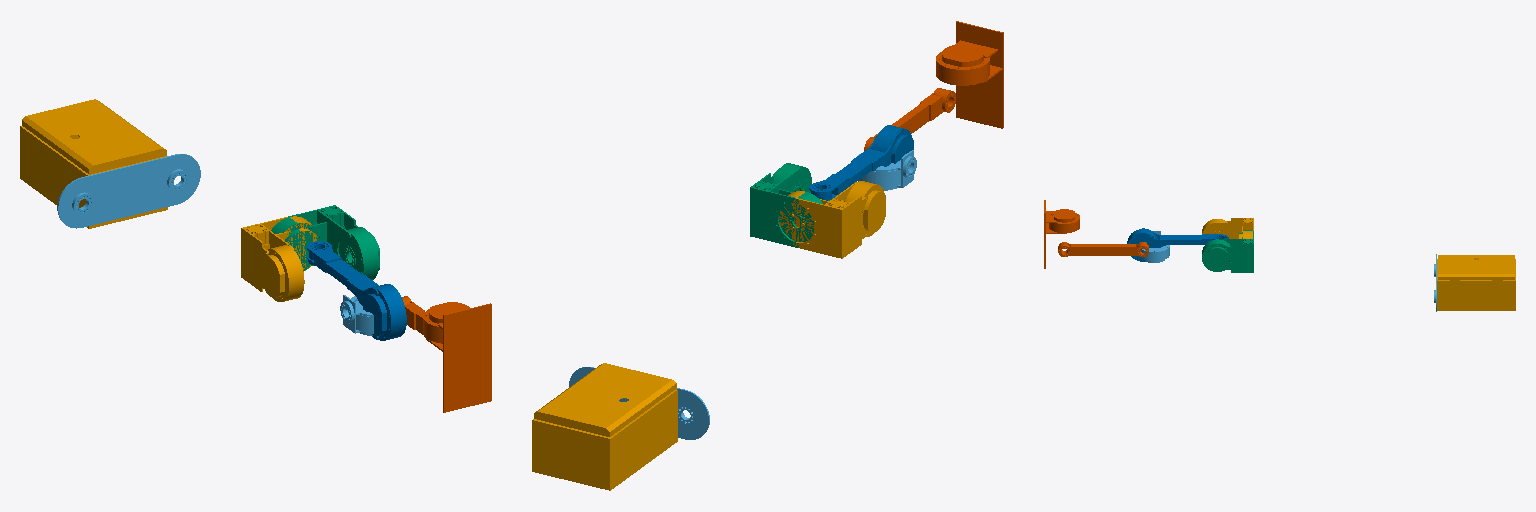
The robot description file, URDF, robot "plymouth_humanoid_skeleton":
<?xml version='1.0' encoding='utf-8'?>
<robot name="plymouth_humanoid_skeleton">


    <!-- ////////////////LINKS URDF///////////////////
        /////////////////////////////////////////////  -->


    <link name="robot_torso_link">
        <inertial>
            <origin xyz="0.040610506256969305 -0.04428824001105586 0.15232735840638484" rpy="0 0 0" />
            <mass value="3.4766230099551185" />
            <inertia    ixx="0.04556755879204122" iyy="0.05012873896013481" izz="0.029046998553490383" 
                        ixy="0.0001363433350708794" iyz="-0.00014319360185266472" ixz="-2.17772042035054e-05" />
        </inertial>
        <visual name="robot_torso_link_visual">
            <origin     xyz="0.03999999999999842 -0.2065000000000018 -0.8247999999999985" 
                        rpy="0 0 -1.5707963267948957" />
            <geometry>
                <mesh filename="meshes/robot_torso_link.stl" scale="1.0 1.0 1.0" />
            </geometry>
        </visual>
        <collision name="robot_torso_link_collision">
            <origin     xyz="0.03999999999999842 -0.2065000000000018 -0.8247999999999985" 
                        rpy="0 0 -1.5707963267948957" />
            <geometry>
                <mesh filename="meshes/robot_torso_link.stl" scale="1.0 1.0 1.0" />
            </geometry>
        </collision>
    </link>
    <link name="robot_pelvis_link">
        <inertial>
            <origin xyz="0.000000001907307843025983 0.8221283725272435 -0.16050000000009512" rpy="0 0 0" />
            <mass value="0.4703666239440356" />
            <inertia    ixx="0.0004950338258166186" iyy="0.0051455689188816735" izz="0.00465557720347649" 
                        ixy="-1.2440762051764413e-16" iyz="-4.9948841394502e-17" ixz="-2.4664787627748077e-16" />
        </inertial>
        <visual name="robot_pelvis_link_visual">
            <origin xyz="0 0 0" rpy="0 0 0" />
            <geometry>
                <mesh filename="meshes/robot_pelvis_link.stl" scale="1.0 1.0 1.0" />
            </geometry>
        </visual>
        <collision name="robot_pelvis_link_collision">
            <origin xyz="0 0 0" rpy="0 0 0" />
            <geometry>
                <mesh filename="meshes/robot_pelvis_link.stl" scale="1.0 1.0 1.0" />
            </geometry>
        </collision>
    </link>
    <link name="robot_l_hip_yaw_link">
        <inertial>
            <origin xyz="0.06170580963744355 0 0.06827606857409776" rpy="0 0 0" />
            <mass value="6.333603185323419" />
            <inertia    ixx="0.028436782140791816" iyy="0.03981948777445865" izz="0.025134874646244795" 
                        ixy="3.3504560609475864e-12" iyz="4.739341596998279e-12" ixz="-0.010596038307326227" />
        </inertial>
        <visual name="robot_l_hip_yaw_link_visual">
            <origin xyz="0.0010000019072628774 0 0.1212999999999947" rpy="0 0 -3.1415926535897922" />
            <geometry>
                <mesh filename="meshes/robot_l_hip_yaw_link.stl" scale="1.0 1.0 1.0" />
            </geometry>
        </visual>
        <collision name="robot_l_hip_yaw_link_collision">
            <origin xyz="0.0010000019072628774 0 0.1212999999999947" rpy="0 0 -3.1415926535897922" />
            <geometry>
                <mesh filename="meshes/robot_l_hip_yaw_link.stl" scale="1.0 1.0 1.0" />
            </geometry>
        </collision>
    </link>
    <link name="robot_l_hip_pitch_link">
        <inertial>
            <origin xyz="-0.02696184868350109 0.00005718654837338022 0.07266905837477193" rpy="0 0 0" />
            <mass value="2.4943200880759124" />
            <inertia    ixx="0.005318665627015662" iyy="0.0035221024403746387" izz="0.0031803389744609056" 
                        ixy="1.301162759759191e-07" iyz="-3.3025731688284423e-07" ixz="0.00011211843529274009" />
        </inertial>
        <visual name="robot_l_hip_pitch_link_visual">
            <origin xyz="0.000799999999894574 0.2573000000000074 0.07500000166893321" rpy="1.5707963267949085 -1.570796326794896 0" />
            <geometry>
                <mesh filename="meshes/robot_l_hip_pitch_link.stl" scale="1.0 1.0 1.0" />
            </geometry>
        </visual>
        <collision name="robot_l_hip_pitch_link_collision">
            <origin xyz="0.000799999999894574 0.2573000000000074 0.07500000166893321" rpy="1.5707963267949085 -1.570796326794896 0" />
            <geometry>
                <mesh filename="meshes/robot_l_hip_pitch_link.stl" scale="1.0 1.0 1.0" />
            </geometry>
        </collision>
    </link>
    <link name="robot_l_thigh_link">
        <inertial>
            <origin xyz="-0.013245029323109475 -0.004137655727869163 -0.2579314528909593" rpy="0 0 0" />
            <mass value="3.0917752218546957" />
            <inertia ixx="0.02883218865798365" iyy="0.02680266525524863" izz="0.003607875021008361" ixy="0.00010068883616660142" iyz="0.0021454171666648405" ixz="-0.0010188574668207385" />
        </inertial>
        <visual name="robot_l_thigh_link_visual">
            <origin xyz="-0.006500003619415118 0.000500003046754074 0.000000004497130134950567" rpy="3.141592653589783 0 3.1415926535897922" />
            <geometry>
                <mesh filename="meshes/robot_l_thigh_link.stl" scale="1.0 1.0 1.0" />
            </geometry>
        </visual>
        <collision name="robot_l_thigh_link_collision">
            <origin xyz="-0.006500003619415118 0.000500003046754074 0.000000004497130134950567" rpy="3.141592653589783 0 3.1415926535897922" />
            <geometry>
                <mesh filename="meshes/robot_l_thigh_link.stl" scale="1.0 1.0 1.0" />
            </geometry>
        </collision>
    </link>
    <link name="robot_l_shank_link">
        <inertial>
            <origin xyz="-0.0000000030467861478200577 0.14999999550286972 0.02088709684404469" rpy="0 0 0" />
            <mass value="0.8515894596853654" />
            <inertia ixx="0.008817835807395924" iyy="0.00018545866885020384" izz="0.008885909396953537" ixy="-1.7694179454963418e-16" iyz="-5.108341843844014e-17" ixz="-7.241192720668563e-17" />
        </inertial>
        <visual name="robot_l_shank_link_visual">
            <origin xyz="-0.0000000030467515088616894 -0.3000000044971365 -0.021500003857830272" rpy="-1.5707963267949183 -1.5707963267948943 0" />
            <geometry>
                <mesh filename="meshes/robot_l_shank_link.stl" scale="1.0 1.0 1.0" />
            </geometry>
        </visual>
        <collision name="robot_l_shank_link_collision">
            <origin xyz="-0.0000000030467515088616894 -0.3000000044971365 -0.021500003857830272" rpy="-1.5707963267949183 -1.5707963267948943 0" />
            <geometry>
                <mesh filename="meshes/robot_l_shank_link.stl" scale="1.0 1.0 1.0" />
            </geometry>
        </collision>
    </link>
    <link name="robot_l_ankle_link">
        <inertial>
            <origin xyz="0.0025101642045814642 -0.0000029435578429026778 0.027693209476934388" rpy="0 0 0" />
            <mass value="2.497542686119488" />
            <inertia ixx="0.003170044378268018" iyy="0.0035459766740820603" izz="0.005361641268614978" ixy="3.5193338254746465e-07" iyz="-5.0583123384351225e-08" ixz="8.715197442183548e-05" />
        </inertial>
        <visual name="robot_l_ankle_link_visual">
            <origin xyz="0.000011559999991028747 0.599940920000003 0.018515648092735582" rpy="1.5707963267949097 -1.5707963267948954 0" />
            <geometry>
                <mesh filename="meshes/robot_l_ankle_link.stl" scale="1.0 1.0 1.0" />
            </geometry>
        </visual>
        <collision name="robot_l_ankle_link_collision">
            <origin xyz="0.000011559999991028747 0.599940920000003 0.018515648092735582" rpy="1.5707963267949097 -1.5707963267948954 0" />
            <geometry>
                <mesh filename="meshes/robot_l_ankle_link.stl" scale="1.0 1.0 1.0" />
            </geometry>
        </collision>
    </link>
    <link name="robot_l_foot_link">
        <inertial>
            <origin xyz="0.0000000021152900764320747 0.021295071129086525 0.009743852524883821" rpy="0 0 0" />
            <mass value="2.78967156731517" />
            <inertia ixx="0.007113124123467467" iyy="0.007089530917847919" izz="0.005986516031780277" ixy="3.032130102553765e-11" iyz="0.001208249550533235" ixz="-3.797835657071147e-11" />
        </inertial>
        <visual name="robot_l_foot_link_visual">
            <origin xyz="-0.009499998092735584 -0.07400000000000896 -0.600000000000003" rpy="0 0 -3.1415926535897922" />
            <geometry>
                <mesh filename="meshes/robot_l_foot_link.stl" scale="1.0 1.0 1.0" />
            </geometry>
        </visual>
        <collision name="robot_l_foot_link_collision">
            <origin xyz="-0.009499998092735584 -0.07400000000000896 -0.600000000000003" rpy="0 0 -3.1415926535897922" />
            <geometry>
                <mesh filename="meshes/robot_l_foot_link.stl" scale="1.0 1.0 1.0" />
            </geometry>
        </collision>
    </link>
    <link name="robot_r_hip_yaw_link">
        <inertial>
            <origin xyz="-0.06170580582138252 0 -0.06827606857536807" rpy="0 0 0" />
            <mass value="6.33360318547509" />
            <inertia ixx="0.02843678214118306" iyy="0.03981948777555511" izz="0.025134874646876512" ixy="3.3527615383185486e-12" iyz="4.741342443921934e-12" ixz="-0.010596038306837618" />
        </inertial>
        <visual name="robot_r_hip_yaw_link_visual">
            <origin xyz="-0.0009999980926557051 0 -0.12129999999999527" rpy="0 0 0" />
            <geometry>
                <mesh filename="meshes/robot_r_hip_yaw_link.stl" scale="1.0 1.0 1.0" />
            </geometry>
        </visual>
        <collision name="robot_r_hip_yaw_link_collision">
            <origin xyz="-0.0009999980926557051 0 -0.12129999999999527" rpy="0 0 0" />
            <geometry>
                <mesh filename="meshes/robot_r_hip_yaw_link.stl" scale="1.0 1.0 1.0" />
            </geometry>
        </collision>
    </link>
    <link name="robot_r_hip_pitch_link">
        <inertial>
            <origin xyz="-0.026950752726990004 -0.0000004887744043458043 0.07268407470290571" rpy="0 0 0" />
            <mass value="2.4943200880759147" />
            <inertia ixx="0.005318838704479134" iyy="0.0035222338455168645" izz="0.003180296615424849" ixy="-2.273747279346594e-08" iyz="2.823485417691174e-09" ixz="0.00011208276943740214" />
        </inertial>
        <visual name="robot_r_hip_pitch_link_visual">
            <origin xyz="0.0007999999998950713 -0.25730000000000786 0.075000005483542" rpy="1.5707963267948843 -1.5707963267948957 0" />
            <geometry>
                <mesh filename="meshes/robot_r_hip_pitch_link.stl" scale="1.0 1.0 1.0" />
            </geometry>
        </visual>
        <collision name="robot_r_hip_pitch_link_collision">
            <origin xyz="0.0007999999998950713 -0.25730000000000786 0.075000005483542" rpy="1.5707963267948843 -1.5707963267948957 0" />
            <geometry>
                <mesh filename="meshes/robot_r_hip_pitch_link.stl" scale="1.0 1.0 1.0" />
            </geometry>
        </collision>
    </link>
    <link name="robot_r_thigh_link">
        <inertial>
            <origin xyz="0.013245027463409737 0.004137658774629856 0.2579314573880829" rpy="0 0 0" />
            <mass value="3.0917752218546957" />
            <inertia ixx="0.02883218865798376" iyy="0.026802665253455676" izz="0.003607875019214846" ixy="0.00010068883404953363" iyz="0.0021454171666639033" ixz="-0.0010188574476189692" />
        </inertial>
        <visual name="robot_r_thigh_link_visual">
            <origin xyz="0.006500001907344953 -0.0005000000000066862 0" rpy="3.1415926535897474 0 0" />
            <geometry>
                <mesh filename="meshes/robot_r_thigh_link.stl" scale="1.0 1.0 1.0" />
            </geometry>
        </visual>
        <collision name="robot_r_thigh_link_collision">
            <origin xyz="0.006500001907344953 -0.0005000000000066862 0" rpy="3.1415926535897474 0 0" />
            <geometry>
                <mesh filename="meshes/robot_r_thigh_link.stl" scale="1.0 1.0 1.0" />
            </geometry>
        </collision>
    </link>
    <link name="robot_r_shank_link">
        <inertial>
            <origin xyz="0 -0.14999999999999544 0.02088709874680781" rpy="0 0 0" />
            <mass value="0.8515894596853654" />
            <inertia ixx="0.008817835807396299" iyy="0.00018545866885018997" izz="0.008885909396952732" ixy="1.1796119636642298e-16" iyz="-8.32422847682077e-17" ixz="-8.92696737494169e-17" />
        </inertial>
        <visual name="robot_r_shank_link_visual">
            <origin xyz="0 0.30000000000001104 -0.021500001955065694" rpy="-1.570796326794883 -1.5707963267948897 0" />
            <geometry>
                <mesh filename="meshes/robot_r_shank_link.stl" scale="1.0 1.0 1.0" />
            </geometry>
        </visual>
        <collision name="robot_r_shank_link_collision">
            <origin xyz="0 0.30000000000001104 -0.021500001955065694" rpy="-1.570796326794883 -1.5707963267948897 0" />
            <geometry>
                <mesh filename="meshes/robot_r_shank_link.stl" scale="1.0 1.0 1.0" />
            </geometry>
        </collision>
    </link>
    <link name="robot_r_ankle_link">
        <inertial>
            <origin xyz="0.0025096858438951133 0.0000004881742454987403 0.02773418951986404" rpy="0 0 0" />
            <mass value="2.4975426861194876" />
            <inertia ixx="0.0031677074193712795" iyy="0.0035435011232669844" izz="0.005361501992920334" ixy="3.059899889024109e-09" iyz="-2.2390836785374235e-08" ixz="8.122457175510502e-05" />
        </inertial>
        <visual name="robot_r_ankle_link_visual">
            <origin xyz="0 -0.6000000000000062 0.01950000190734496" rpy="1.5707963267948835 -1.5707963267948952 0" />
            <geometry>
                <mesh filename="meshes/robot_r_ankle_link.stl" scale="1.0 1.0 1.0" />
            </geometry>
        </visual>
        <collision name="robot_r_ankle_link_collision">
            <origin xyz="0 -0.6000000000000062 0.01950000190734496" rpy="1.5707963267948835 -1.5707963267948952 0" />
            <geometry>
                <mesh filename="meshes/robot_r_ankle_link.stl" scale="1.0 1.0 1.0" />
            </geometry>
        </collision>
    </link>
    <link name="robot_r_foot_link">
        <inertial>
            <origin xyz="0.0000000016993186235936263 -0.02129507460669811 -0.009743852524875" rpy="0 0 0" />
            <mass value="2.7896715673151693" />
            <inertia ixx="0.007113124257631137" iyy="0.007089530917849758" izz="0.005986516165940273" ixy="3.032198797603414e-11" iyz="0.0012082496450576182" ixz="-3.797779352347724e-11" />
        </inertial>
        <visual name="robot_r_foot_link_visual">
            <origin xyz="0.00950000190734107 0.07400000000000669 0.6000000000000062" rpy="0 0 0" />
            <geometry>
                <mesh filename="meshes/robot_r_foot_link.stl" scale="1.0 1.0 1.0" />
            </geometry>
        </visual>
        <collision name="robot_r_foot_link_collision">
            <origin xyz="0.00950000190734107 0.07400000000000669 0.6000000000000062" rpy="0 0 0" />
            <geometry>
                <mesh filename="meshes/robot_r_foot_link.stl" scale="1.0 1.0 1.0" />
            </geometry>
        </collision>
    </link>

    <!-- //////////////////JOINTS/////////////////////////
        ////////////////////////////////////////////////// -->

    <joint name="robot_pelvis_link_l_yaw_joint" type="revolute">
        <origin xyz="0.12000000000000094 0.8127999999999959 -0.1604999999999903" rpy="1.5707963267949308 2.77555756156387e-17 5.273559366969195e-16" />
        <parent link="robot_pelvis_link" />
        <child link="robot_l_hip_yaw_link" />
        <axis xyz="-4.2755644765189156e-32 2.1213866940853923e-14 1.0" />
        <limit lower="-0.523599" upper="0.523599" effort="60"  velocity="6" />
    </joint>
    <joint name="robot_l_hip_yaw_link_l_pitch_joint" type="revolute">
        <origin xyz="0.07499999999999987 2.877698079828406e-15 0.13629999999999995" rpy="-1.5707963267948966 2.1213866940853926e-14 1.5707963267948966" />
        <parent link="robot_l_hip_yaw_link" />
        <child link="robot_l_hip_pitch_link" />
        <axis xyz="-2.2725973344141428e-32 2.775557561565327e-17 -1.0" />
        <limit lower="-1.047198" upper="0.698132" effort="60"  velocity="6" />
    </joint>
    <joint name="robot_l_hip_pitch_link_l_roll_joint" type="revolute">
        <origin xyz="0.0004884400000000255 5.907999999990921e-05 0.07498434999999998" rpy="-1.5707963267949294 1.5707963267948966 0" />
        <parent link="robot_l_hip_pitch_link" />
        <child link="robot_l_thigh_link" />
        <axis xyz="-3.8518598882279653e-34 1.0 3.270422467429247e-14" />
        <limit lower="-0.436332" upper="0.436332" effort="60"  velocity="6" />
    </joint>
    <joint name="robot_l_thigh_link_l_knee_joint" type="revolute">
        <origin xyz="0.0129999999999999 0.0005000000000097771 -0.3" rpy="-1.5707963267948981 3.270422467429247e-14 -1.5707963267948966" />
        <parent link="robot_l_thigh_link" />
        <child link="robot_l_shank_link" />
        <axis xyz="-1.2210395847338845e-31 1.4849232954356037e-15 -1.0" />
        <limit lower="-2.094395" upper="0.0" effort="90"  velocity="8" />
    </joint>
    <joint name="robot_l_shank_link_l_ankle_joint" type="revolute">
        <origin xyz="0.0 0.3 4.440892098500626e-16" rpy="-3.141592653589792 2.241782455256438e-31 3.1554436208840472e-30" />
        <parent link="robot_l_shank_link" />
        <child link="robot_l_ankle_link" />
        <axis xyz="1.0207428705226006e-31 -0.0 1.0" />
        <limit lower="-0.610865" upper="0.436332" effort="45"  velocity="10" />
    </joint>
    <joint name="robot_l_ankle_link_l_foot_joint" type="revolute">
        <origin xyz="0.07401155999999999 -5.9079999999998025e-05 0.009015649999999998" rpy="1.5707963267948966 1.5707963267948966 0" />
        <parent link="robot_l_ankle_link" />
        <child link="robot_l_foot_link" />
        <axis xyz="1.2094840050743994e-31 1.0 0.0" />
        <limit lower="-0.261799" upper="0.261799" effort="45"  velocity="10" />
    </joint>
    <joint name="robot_pelvis_link_r_yaw_joint" type="revolute">
        <origin xyz="-0.11999999999999826 0.8127999999999959 -0.1604999999999903" rpy="-1.5707963267948628 2.77555756156387e-17 5.273559366969195e-16" />
        <parent link="robot_pelvis_link" />
        <child link="robot_r_hip_yaw_link" />
        <axis xyz="4.2755644765189156e-32 2.1047333487160162e-14 1.0" />
        <limit lower="-0.523599" upper="0.523599" effort="60"  velocity="6" />
    </joint>
    <joint name="robot_r_hip_yaw_link_r_pitch_joint" type="revolute">
        <origin xyz="-0.07499999999999991 -2.877698079828406e-15 -0.13629999999999995" rpy="-1.5707963267948966 -2.1047333487160162e-14 -1.5707963267948966" />
        <parent link="robot_r_hip_yaw_link" />
        <child link="robot_r_hip_pitch_link" />
        <axis xyz="-8.281498761229452e-33 0.0 1.0" />
        <limit lower="-1.047198" upper="0.698132" effort="60"  velocity="6" />
    </joint>
    <joint name="robot_r_hip_pitch_link_r_roll_joint" type="revolute">
        <origin xyz="0.0005000000000000072 0.0 0.07500000000000002" rpy="-1.5707963267948637 -1.5707963267948966 0" />
        <parent link="robot_r_hip_pitch_link" />
        <child link="robot_r_thigh_link" />
        <axis xyz="-2.1955601366083152e-32 1.0 -3.282668935420722e-14" />
        <limit lower="-0.436332" upper="0.436332" effort="60"  velocity="6" />
    </joint>
    <joint name="robot_r_thigh_link_r_knee_joint" type="revolute">
        <origin xyz="-0.013000000000000185 -0.0004999999999901661 0.3000000000000001" rpy="-1.570796326794898 3.282668935420722e-14 1.5707963267948966" />
        <parent link="robot_r_thigh_link" />
        <child link="robot_r_shank_link" />
        <axis xyz="-3.120006509880417e-32 -1.193489751472503e-15 1.0" />
        <limit lower="-2.094395" upper="0.0" effort="90"  velocity="8" />
    </joint>
    <joint name="robot_r_shank_link_r_ankle_joint" type="revolute">
        <origin xyz="0.0 -0.3 -3.552713678800501e-16" rpy="-3.1415926535897922 -1.0400021699518434e-31 0.0" />
        <parent link="robot_r_shank_link" />
        <child link="robot_r_ankle_link" />
        <axis xyz="7.280015189638016e-32 1.5879329631222806e-30 -1.0" />
        <limit lower="-0.610865" upper="0.436332" effort="45"  velocity="10" />
    </joint>
    <joint name="robot_r_ankle_link_r_foot_joint" type="revolute">
        <origin xyz="0.07400000000000002 0.0 0.01" rpy="1.5707963267948966 -1.5707963267948961 0" />
        <parent link="robot_r_ankle_link" />
        <child link="robot_r_foot_link" />
        <axis xyz="-2.5037089276361443e-33 1.0 -2.105898581219543e-17" />
        <limit lower="-0.261799" upper="0.261799" effort="45"  velocity="10" />
    </joint>
    <joint name="robot_pelvis_link_torso_joint" type="fixed">
        <origin xyz="-0.03999999999999858 0.8247999999999963 -0.2064999999999898" rpy="-1.570796326794884 2.77555756156387e-17 5.273559366969195e-16" />
        <parent link="robot_pelvis_link" />
        <child link="robot_torso_link" />
    </joint>
</robot>

--- Render facts (derived) ---
3 views of the same robot in one strip: view 1: azimuth 30°, elevation 25°; view 2: azimuth 150°, elevation 25°; view 3: azimuth 270°, elevation 25° (orthographic).
Model plymouth_humanoid_skeleton with 14 links and 13 joints (12 revolute, 1 fixed), rooted at robot_pelvis_link, posed all joints at 0.
Visible links, largest first — view 1: robot_torso_link, robot_pelvis_link, robot_r_foot_link, robot_r_hip_yaw_link, robot_l_hip_yaw_link, robot_l_thigh_link, robot_r_hip_pitch_link; view 2: robot_torso_link, robot_r_foot_link, robot_r_hip_yaw_link, robot_l_hip_yaw_link, robot_l_thigh_link, robot_pelvis_link, robot_l_shank_link, robot_r_hip_pitch_link; view 3: robot_torso_link, robot_l_hip_yaw_link, robot_l_shank_link, robot_l_thigh_link, robot_r_foot_link, robot_r_hip_yaw_link.
Boxes of the visible links, bbox=[...] form: robot_torso_link: bbox=[20, 99, 167, 228]; robot_pelvis_link: bbox=[57, 154, 200, 228]; robot_r_foot_link: bbox=[423, 302, 491, 412]; robot_r_hip_yaw_link: bbox=[241, 216, 317, 301]; robot_l_hip_yaw_link: bbox=[271, 205, 379, 279]; robot_l_thigh_link: bbox=[307, 241, 406, 340]; robot_r_hip_pitch_link: bbox=[340, 295, 373, 335]; robot_torso_link: bbox=[532, 363, 677, 490]; robot_r_foot_link: bbox=[936, 21, 1003, 128]; robot_r_hip_yaw_link: bbox=[779, 181, 885, 258]; robot_l_hip_yaw_link: bbox=[750, 163, 823, 247]; robot_l_thigh_link: bbox=[809, 125, 913, 200]; robot_pelvis_link: bbox=[569, 367, 709, 439]; robot_l_shank_link: bbox=[864, 88, 955, 150]; robot_r_hip_pitch_link: bbox=[858, 150, 916, 190]; robot_torso_link: bbox=[1437, 255, 1515, 310]; robot_l_hip_yaw_link: bbox=[1202, 230, 1253, 272]; robot_l_shank_link: bbox=[1058, 242, 1148, 256]; robot_l_thigh_link: bbox=[1127, 228, 1228, 261]; robot_r_foot_link: bbox=[1044, 200, 1079, 268]; robot_r_hip_yaw_link: bbox=[1202, 218, 1253, 238].
Size in the robot's own frame: 360 by 1801 by 390 metres.
Meshes: 14 distinct files referenced, 8 mesh visuals loaded (8 binary STL); not drawn: 6 (reference not matched to a file when rendering).
